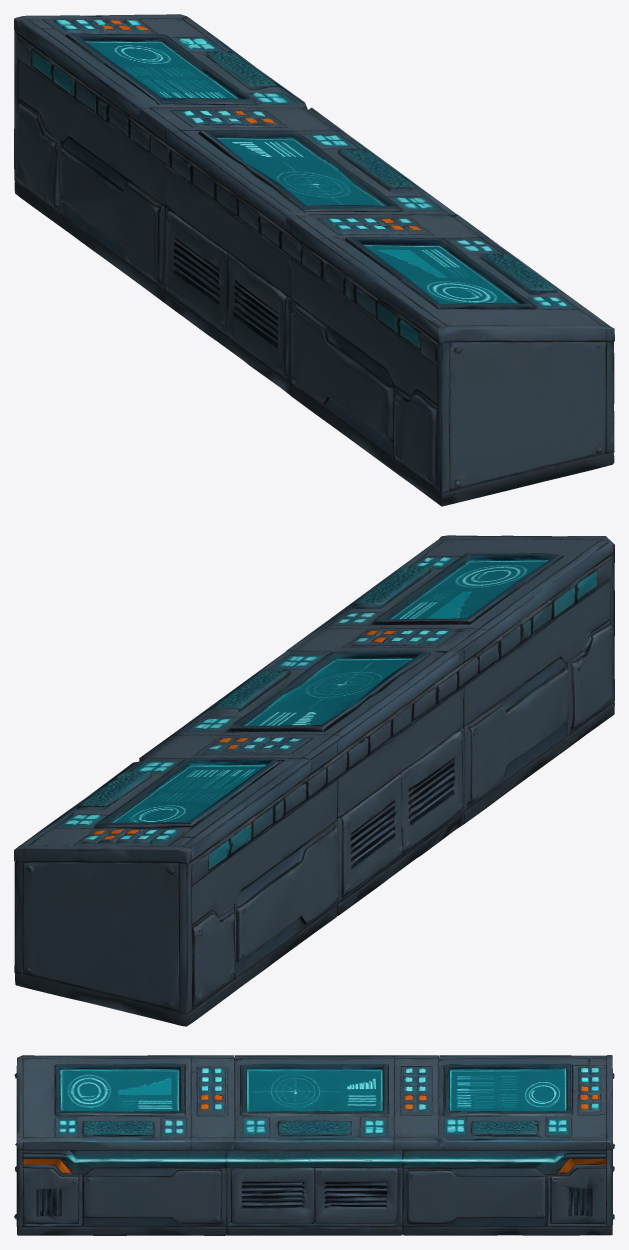
Rendered from desk.glb.
The picture shows the model from 3 angles, top to bottom: view 1: azimuth 30°, elevation 25°; view 2: azimuth 150°, elevation 25°; view 3: azimuth 270°, elevation 25°; orthographic projection. The views are drawn at different scales.
Visible parts, largest first — view 1: tripo_node_531f6442-8ca1-4d1f-bee1-5aa028209081; view 2: tripo_node_531f6442-8ca1-4d1f-bee1-5aa028209081; view 3: tripo_node_531f6442-8ca1-4d1f-bee1-5aa028209081.
Boxes of the visible parts, <box> form: tripo_node_531f6442-8ca1-4d1f-bee1-5aa028209081: <box>14,14,614,506</box>; tripo_node_531f6442-8ca1-4d1f-bee1-5aa028209081: <box>14,535,614,1026</box>; tripo_node_531f6442-8ca1-4d1f-bee1-5aa028209081: <box>14,1055,614,1235</box>.
Size of the model in its own units: 0.2405 by 0.2227 by 0.9824.
1 material, 1 textured.
